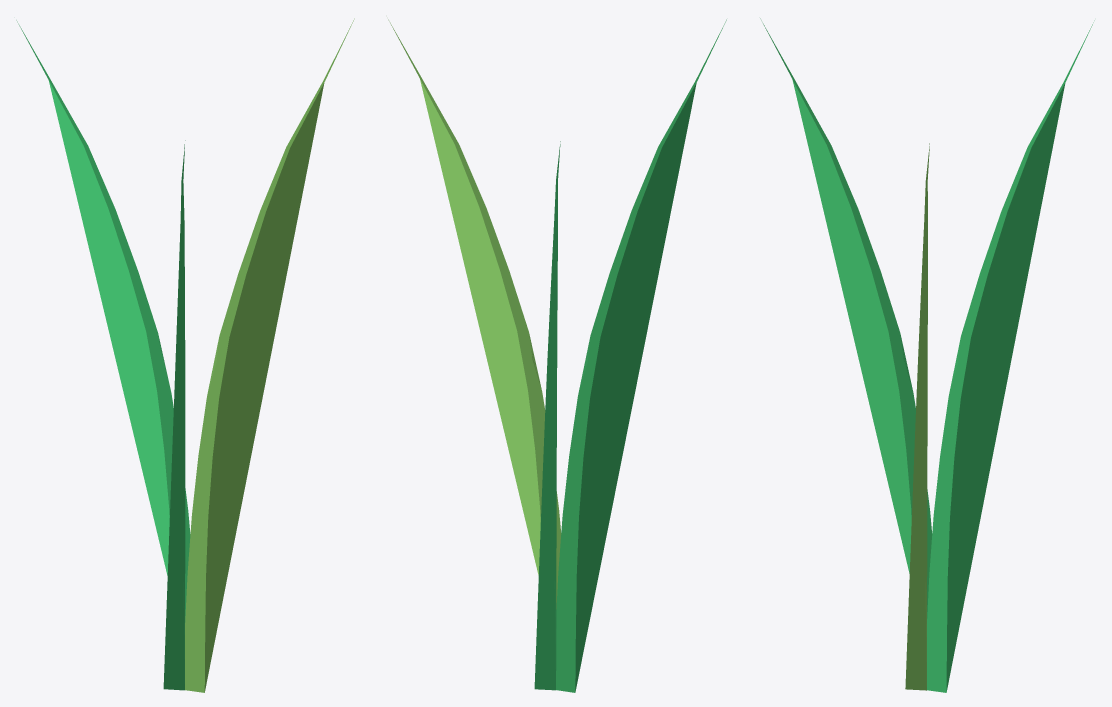
File: grass.fbx
The picture shows the model from 3 angles, left to right: view 1: azimuth 30°, elevation 25°; view 2: azimuth 150°, elevation 25°; view 3: azimuth 270°, elevation 25°; orthographic projection.
Parts seen in each view (by area): view 1: Cone, Cone.002, Cone.001; view 2: Cone.001, Cone, Cone.002; view 3: Cone.002, Cone.001, Cone.
Boxes of the visible parts, left/top/right/bottom form: Cone: left=185, top=18, right=354, bottom=692; Cone.002: left=16, top=20, right=190, bottom=622; Cone.001: left=163, top=140, right=185, bottom=690; Cone.001: left=556, top=19, right=726, bottom=692; Cone: left=388, top=19, right=561, bottom=608; Cone.002: left=534, top=141, right=560, bottom=690; Cone.002: left=927, top=20, right=1094, bottom=692; Cone.001: left=760, top=18, right=932, bottom=618; Cone: left=905, top=143, right=929, bottom=690.
Size of the model in its own units: 77.04 by 179 by 87.54.
